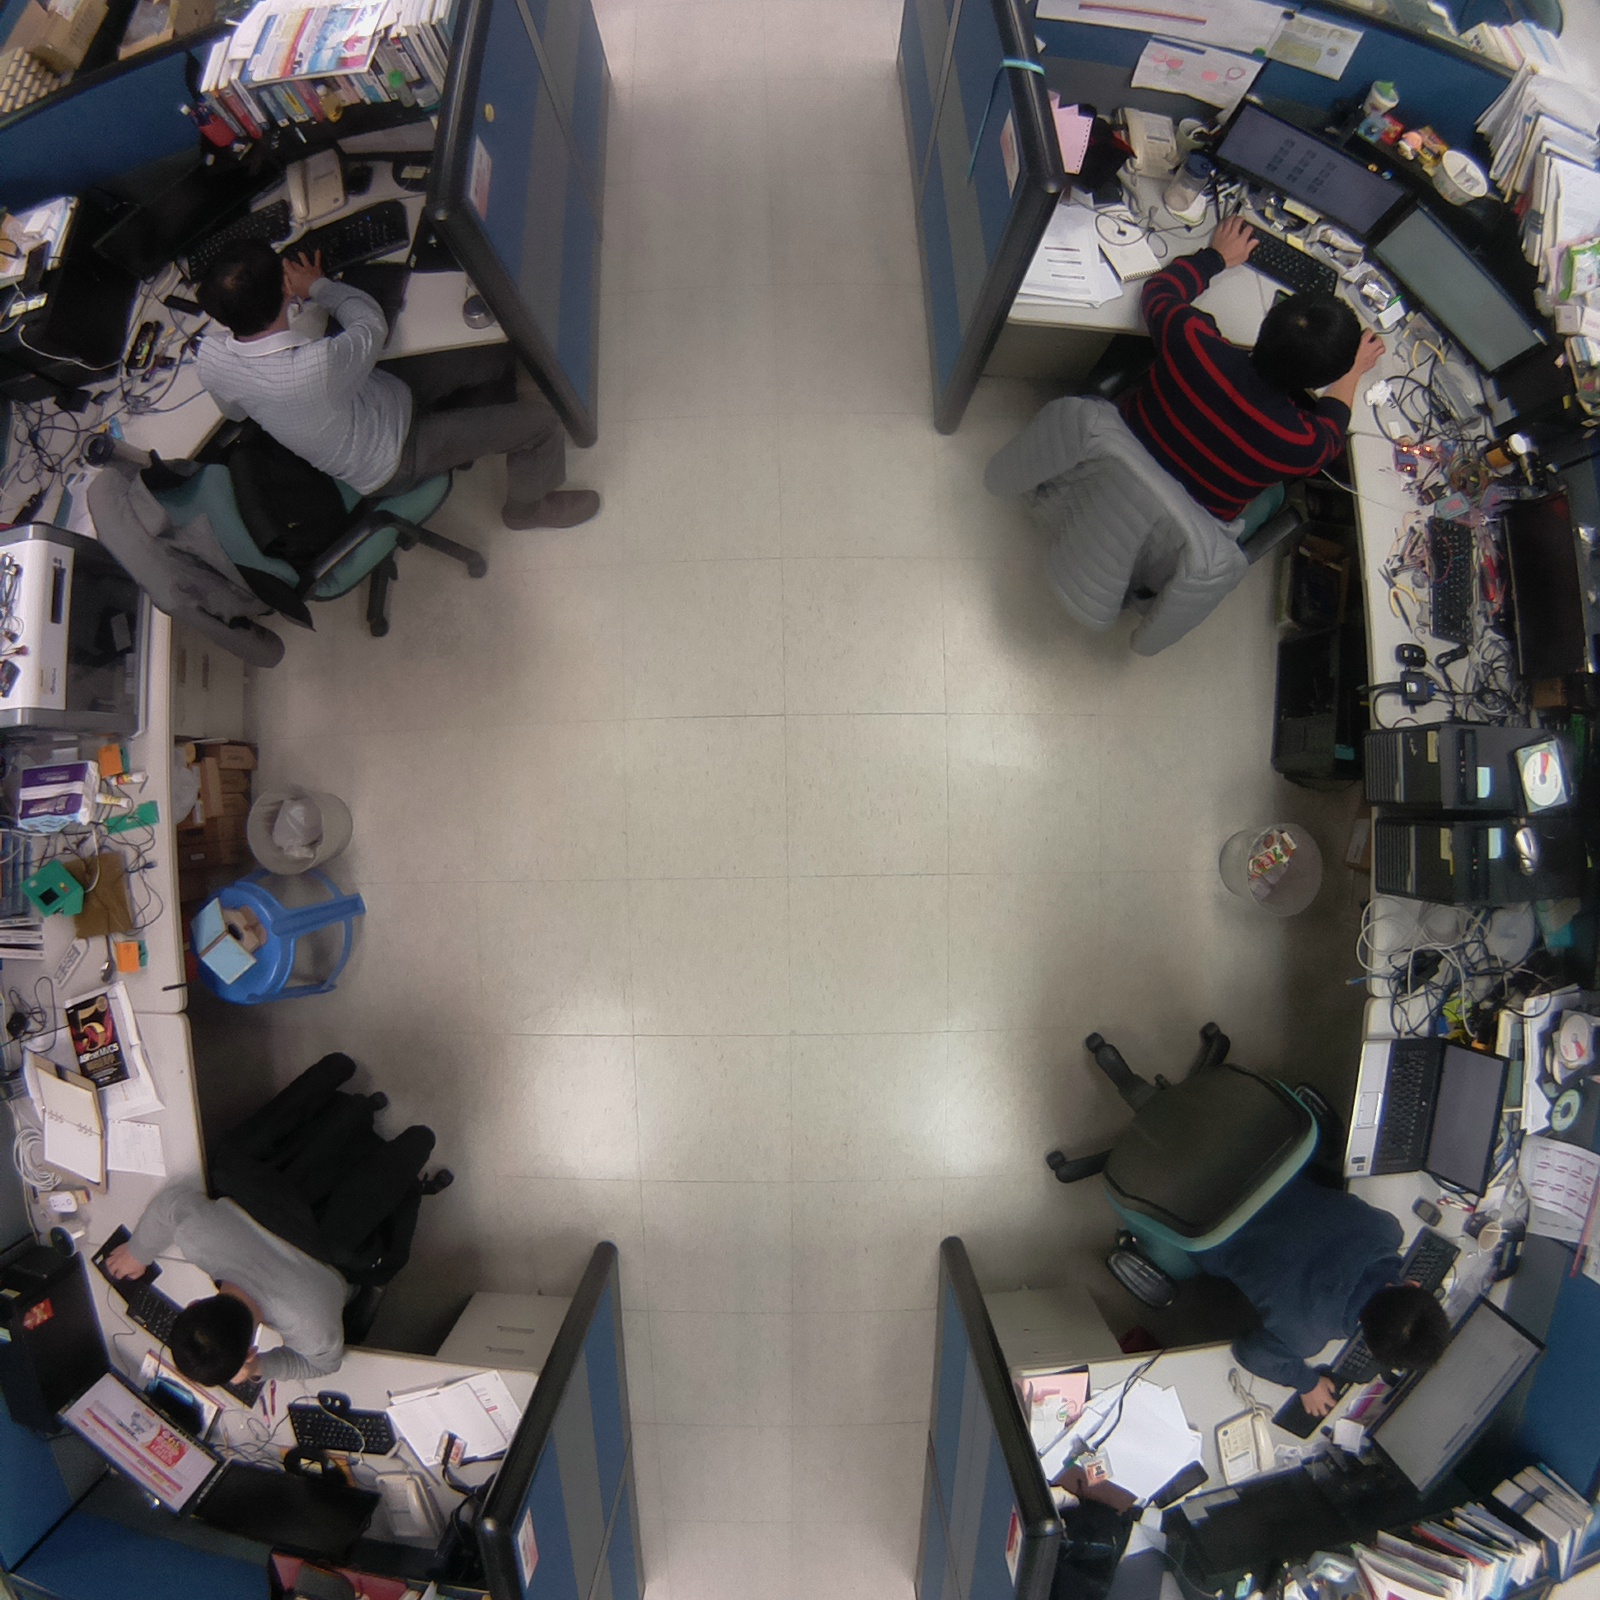head: (193, 231, 304, 340), (1253, 285, 1366, 391), (1351, 1274, 1459, 1380), (166, 1289, 261, 1389)
sitting: (53, 229, 606, 675), (950, 201, 1396, 675), (1012, 1004, 1460, 1429), (96, 1034, 460, 1396)
